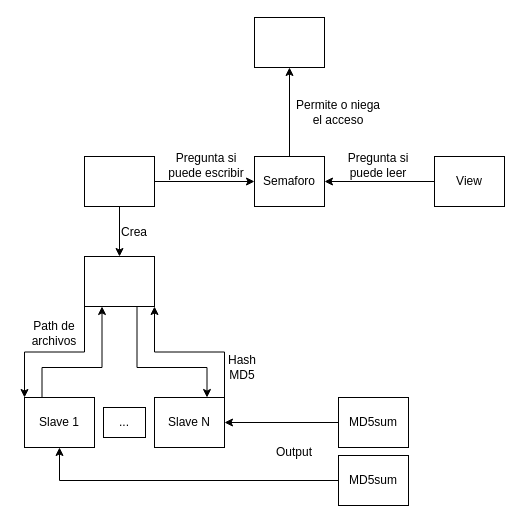
Image size: 522x523. Some labels were removed from this diagram. The shapes that lost their labels are listed below. From the top down, each one's centre as x and y in pixels, then its label:
point (289, 42): Shared Memory
point (119, 181): App
point (119, 281): Slave Manager
